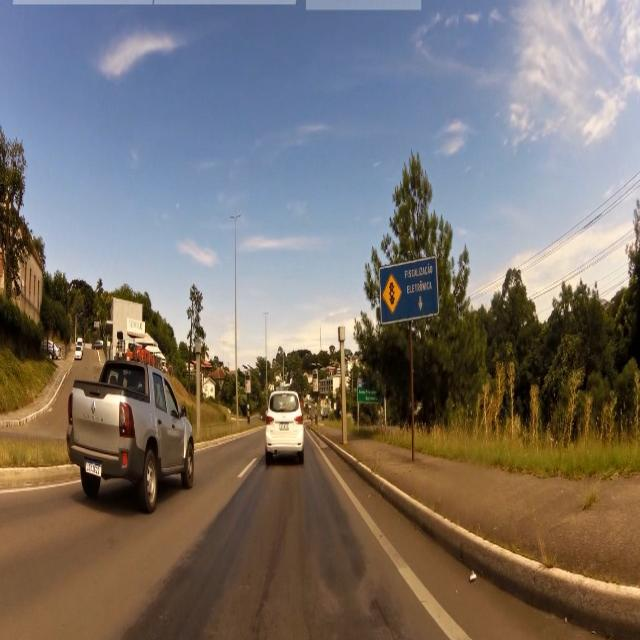A-14: (384, 273, 402, 315)
